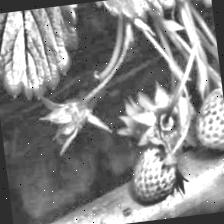Gray Mold: (38, 93, 114, 157)
